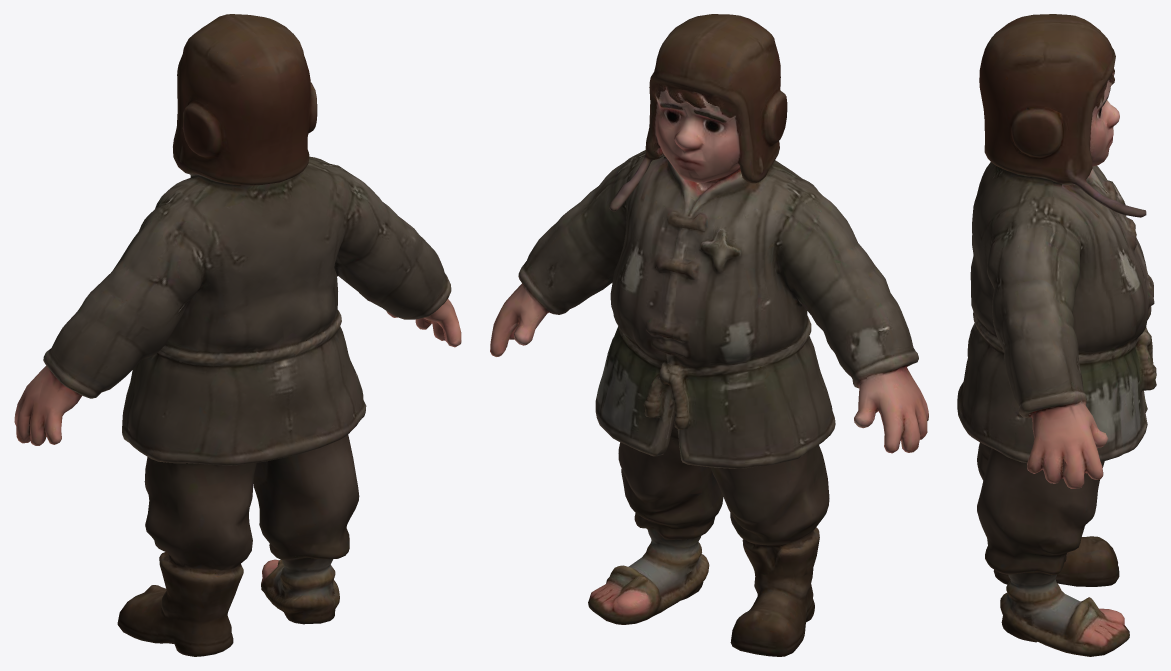
The model's file is Tank_P1_propre.glb.
3 renders of one model, left to right at view 1: azimuth 30°, elevation 25°; view 2: azimuth 150°, elevation 25°; view 3: azimuth 270°, elevation 25°, orthographic. The views are drawn at different scales.
Visible parts, largest first — view 1: Tank_P1; view 2: Tank_P1; view 3: Tank_P1.
Part boxes in pixels (x1,y1,x2,y2): Tank_P1: (14,14,461,656); Tank_P1: (490,14,928,656); Tank_P1: (957,14,1156,656).
Size of the model in its own units: 4.01 by 5.33 by 1.64.
Materials: 1 (1 with a texture image).
